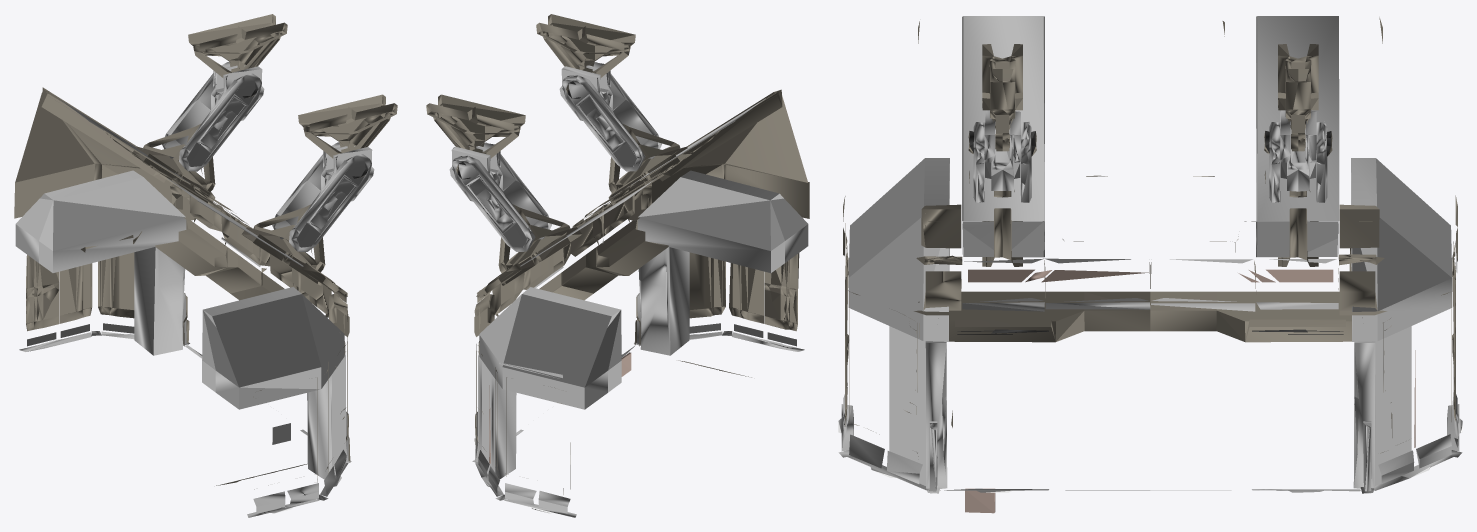
Rendered from customs_arccorp_facade_a.glb.
3 views of the same model, side by side, from view 1: azimuth 30°, elevation 25°; view 2: azimuth 150°, elevation 25°; view 3: azimuth 270°, elevation 25° (orthographic). The views are drawn at different scales.
Bounding box in the file's own units: 9.75 × 15.38 × 18.85.
